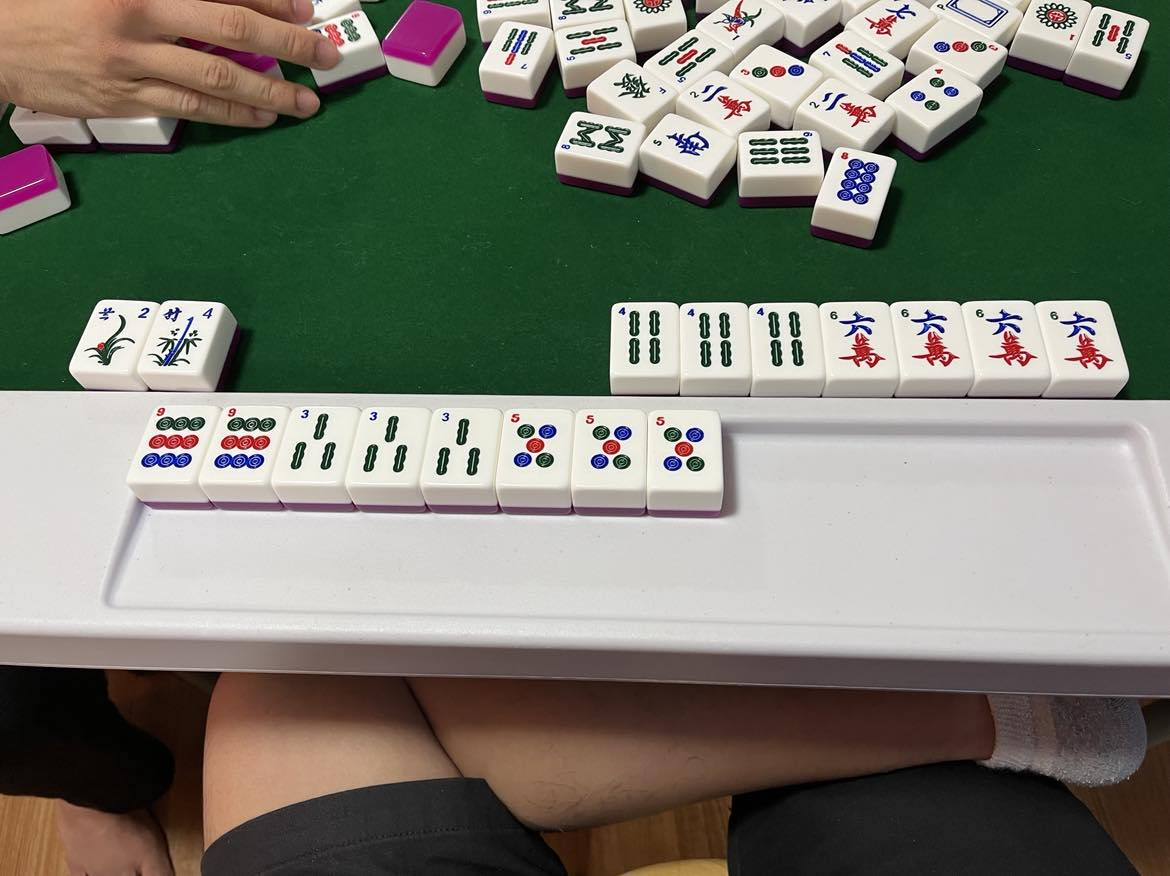bamboo-four: (754, 305, 817, 378), (614, 304, 675, 375), (684, 305, 743, 371)
bamboo-three: (428, 409, 492, 482), (283, 407, 344, 479), (356, 408, 416, 481)
character-six: (1048, 302, 1120, 374), (971, 302, 1043, 373), (825, 304, 893, 374), (901, 304, 965, 375)
circle-five: (652, 413, 716, 486), (579, 411, 641, 481), (508, 408, 564, 484)
circle-nine: (137, 405, 207, 479), (213, 405, 276, 477)
flower-blue_four: (155, 302, 217, 374)
flower-blue_two: (82, 296, 149, 375)
